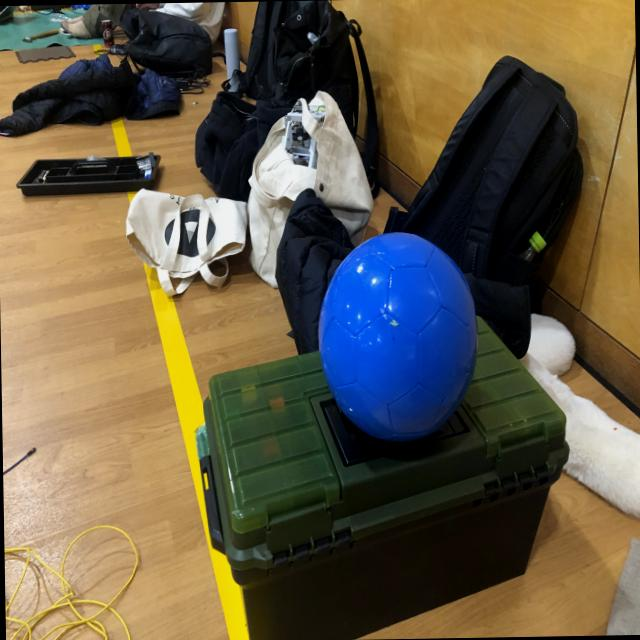blue_ball: (315, 232, 479, 450)
